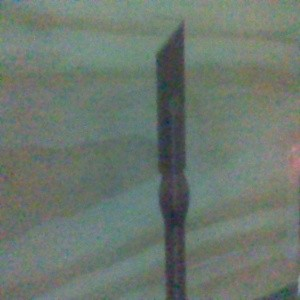cutter: (153, 17, 191, 300)
